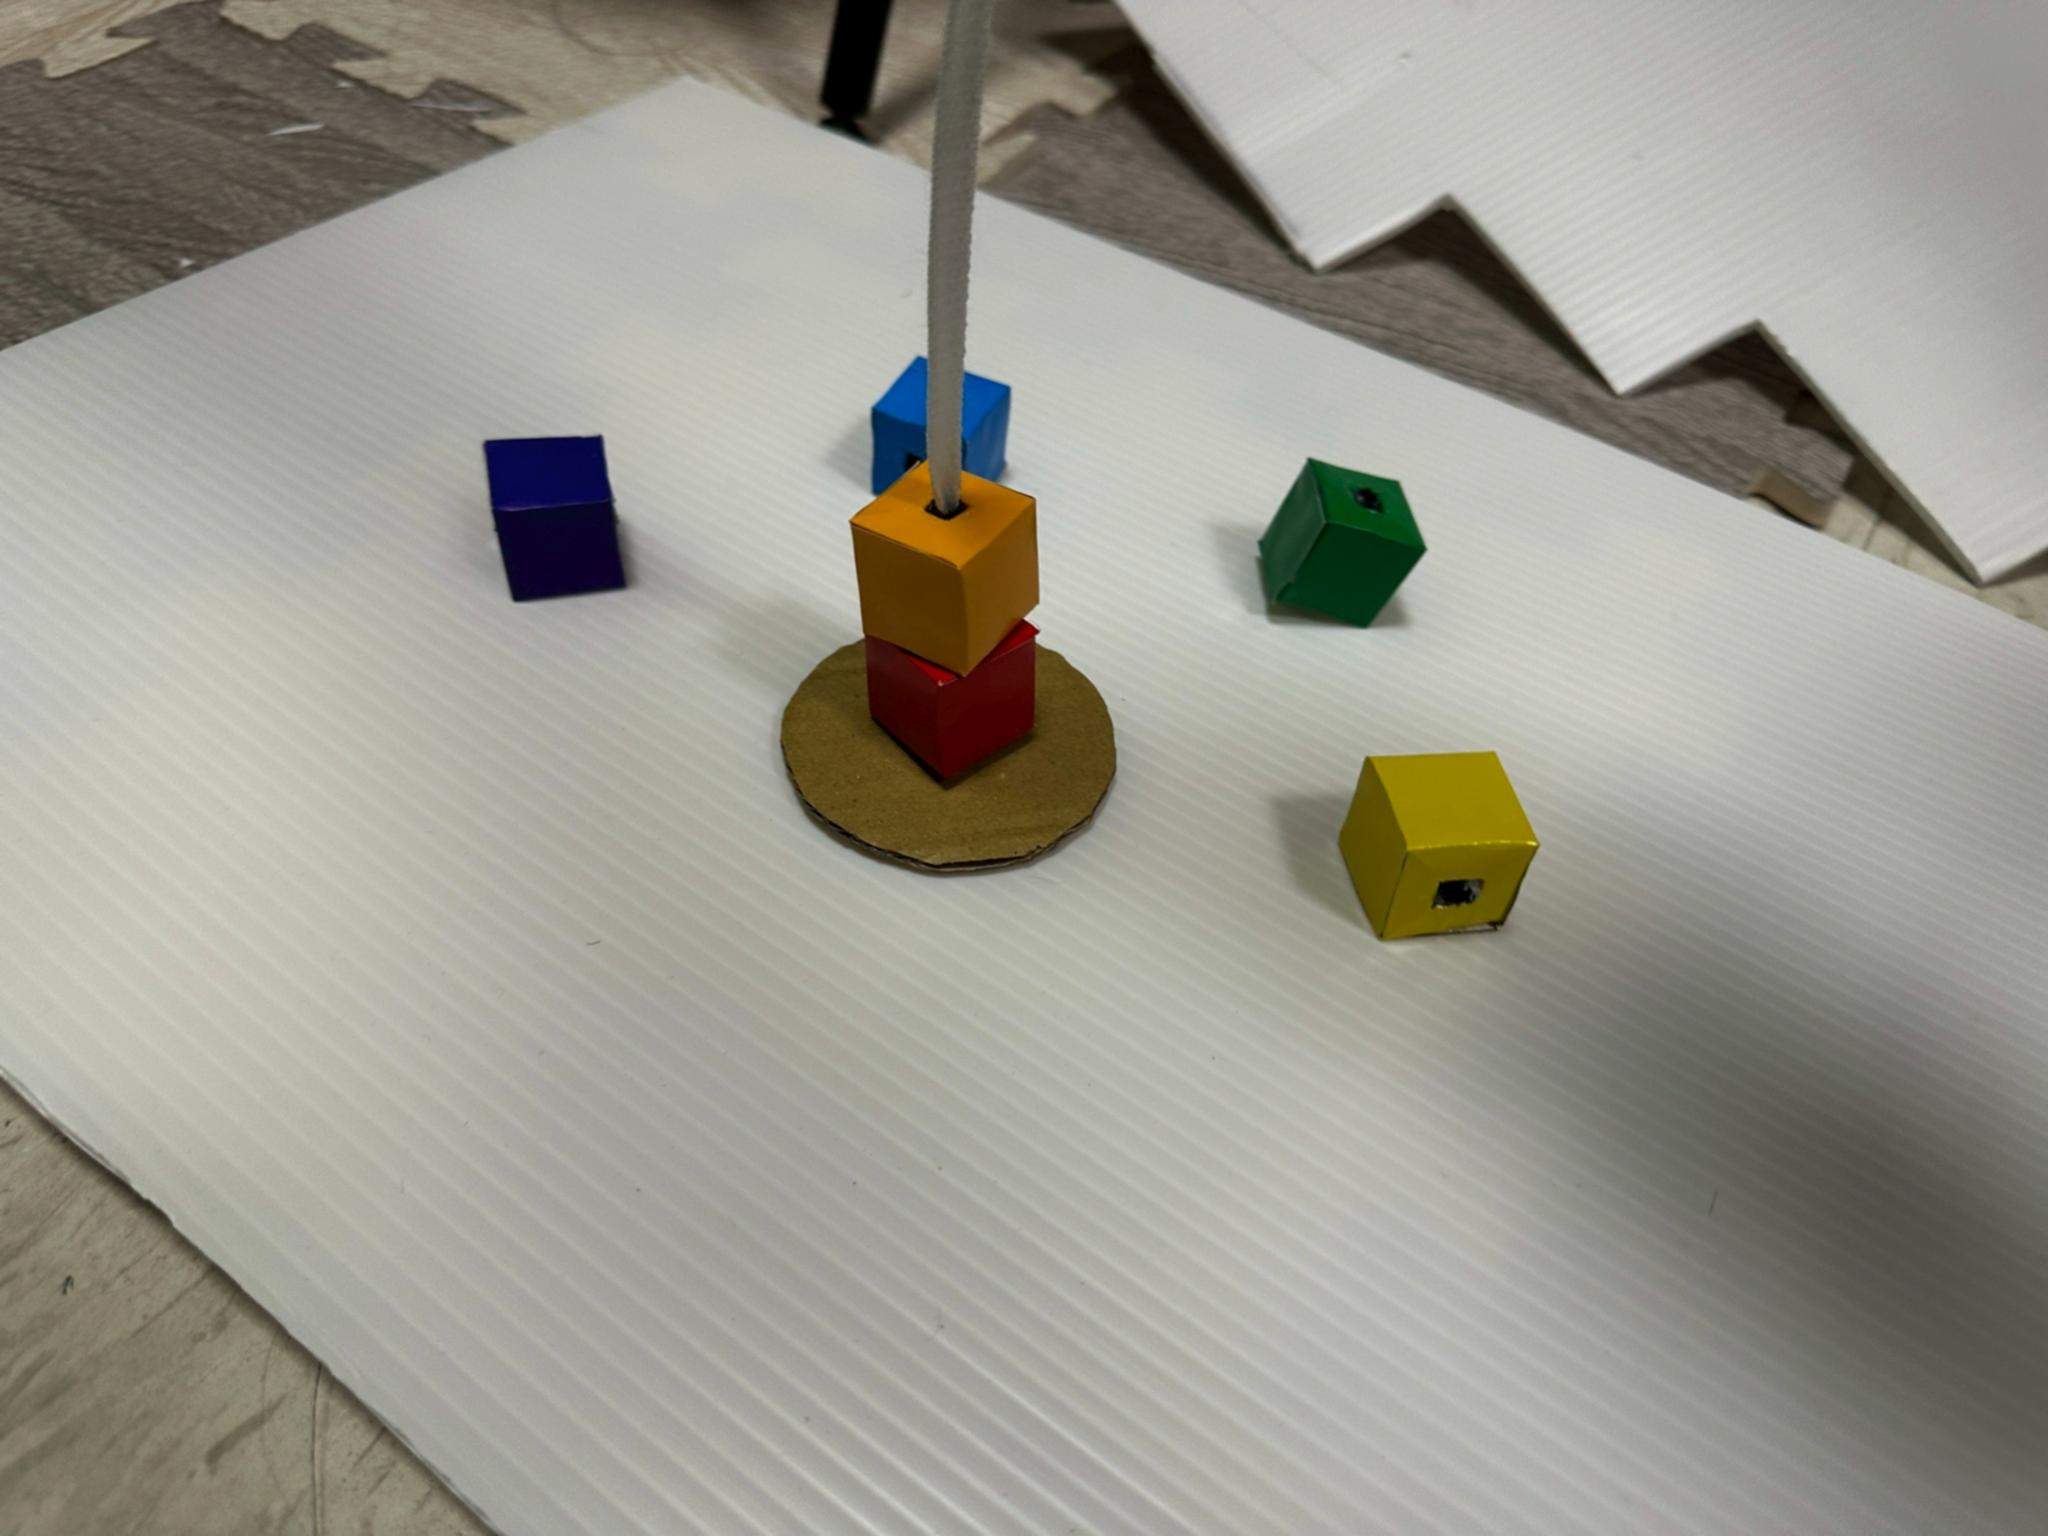base: (782, 642, 1116, 868)
cube: (851, 463, 1039, 674), (1340, 752, 1538, 939), (1261, 460, 1426, 626), (866, 621, 1035, 779), (485, 437, 626, 600), (871, 357, 927, 495), (963, 374, 1009, 479)
